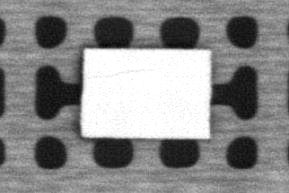DIE_CRACK: (87, 64, 159, 81)
